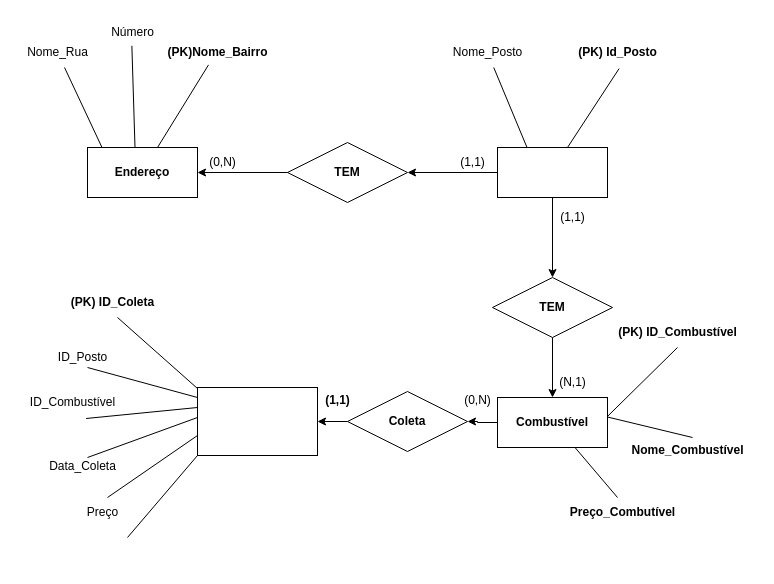
Image size: 774x584. Some labels were removed from this diagram. The shapes that lost their labels are listed below. From the top down, each one's centre as x and y in pixels, then its label:
At point 552,172: "Posto".
At point 257,421: "PESQUISA".
